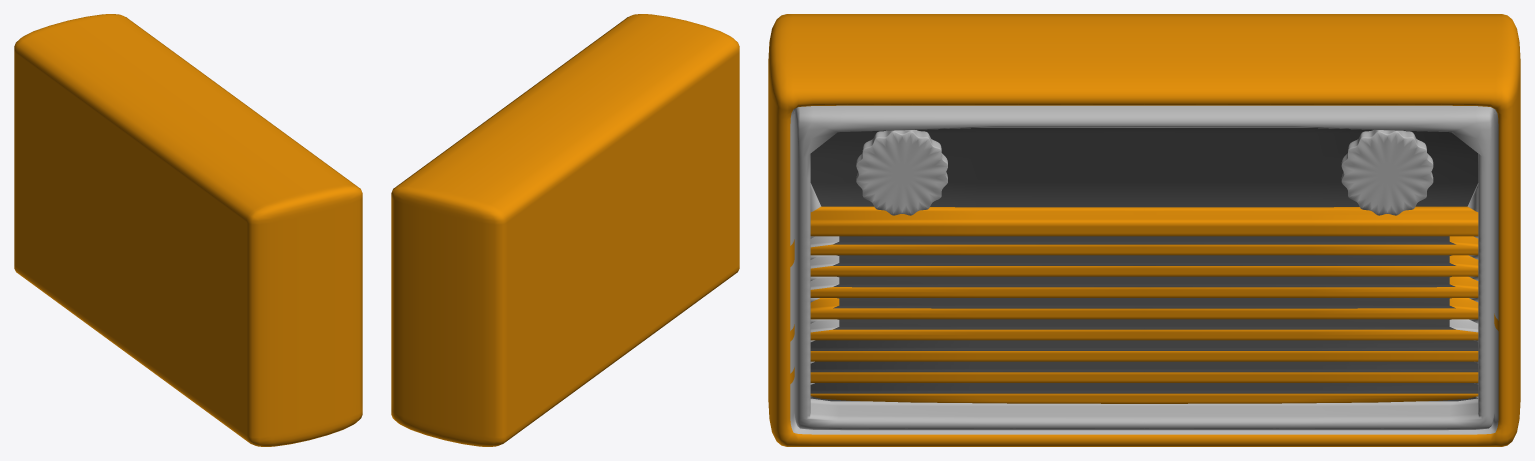
The model's file is Radio.fbx.
3 views of the same model, side by side, from view 1: azimuth 30°, elevation 25°; view 2: azimuth 150°, elevation 25°; view 3: azimuth 270°, elevation 25° (orthographic). The views are drawn at different scales.
Visible parts, largest first — view 1: Cube; view 2: Cube; view 3: Cube.
Boxes of the visible parts, x1,y1,x2,y2 form: Cube: (14,14,362,446); Cube: (391,14,739,446); Cube: (768,14,1520,446).
Size of the model in its own units: 99.86 by 199 by 363.
